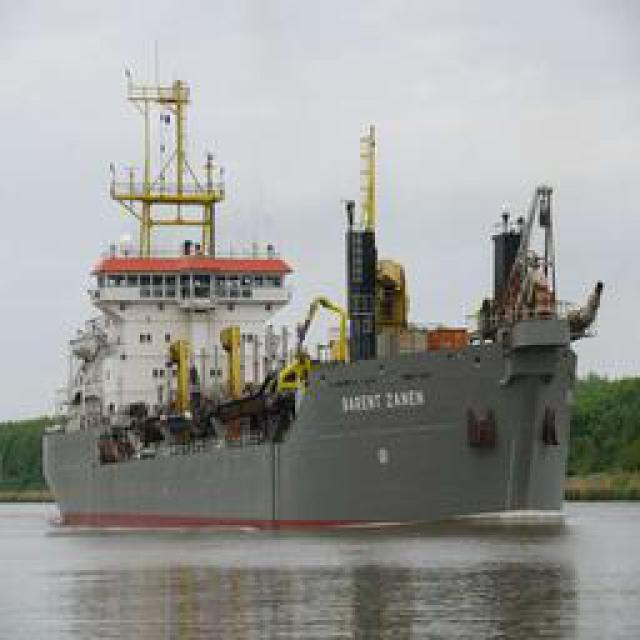Ship: (45, 47, 483, 537)
